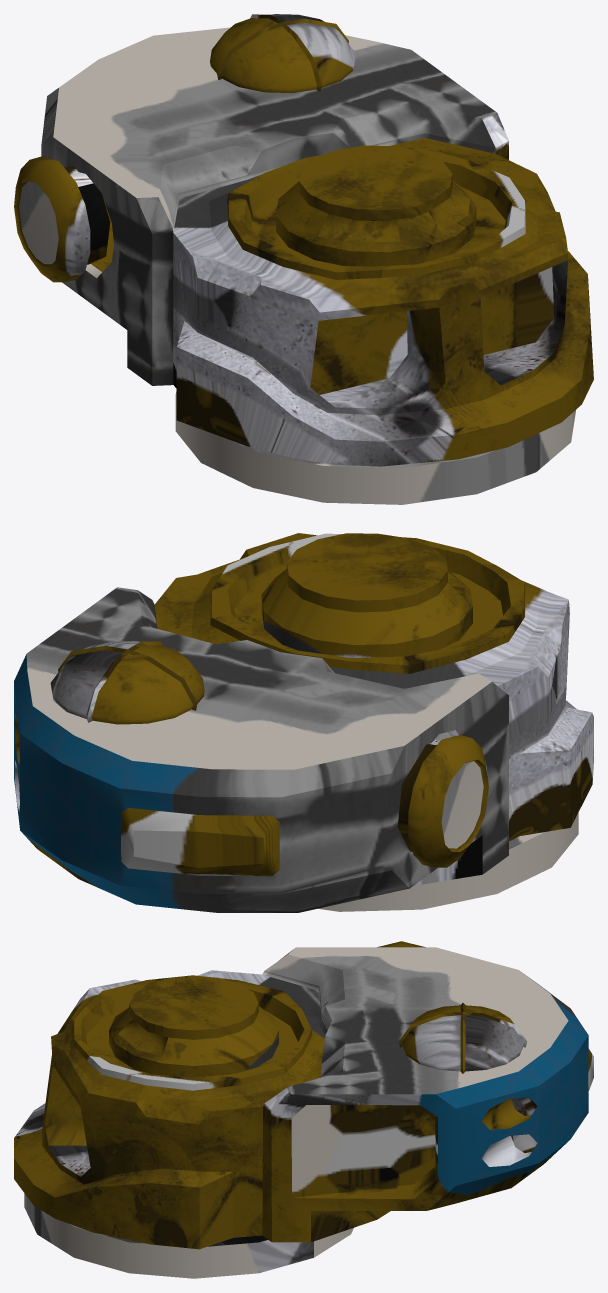
File: ME_huge_tower.fbx
3 views of the same model, one above another, from view 1: azimuth 30°, elevation 25°; view 2: azimuth 150°, elevation 25°; view 3: azimuth 270°, elevation 25° (orthographic). The views are drawn at different scales.
Visible parts, largest first — view 1: ME_huge_tower; view 2: ME_huge_tower; view 3: ME_huge_tower.
Boxes of the visible parts, x1,y1,x2,y2 form: ME_huge_tower: (14, 14, 593, 504); ME_huge_tower: (14, 533, 593, 912); ME_huge_tower: (14, 941, 593, 1278).
Bounding box in the file's own units: 236 × 145 × 342.
